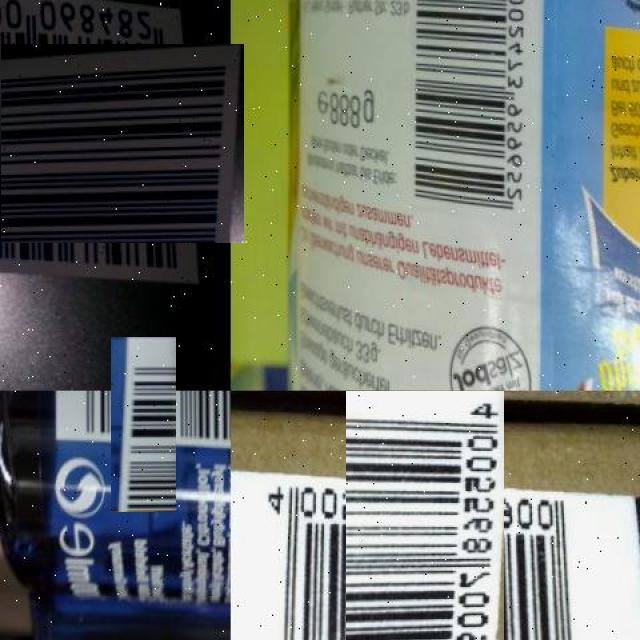Barcode: (0, 22, 222, 266), (302, 437, 550, 640), (407, 0, 539, 222), (83, 364, 204, 484)
